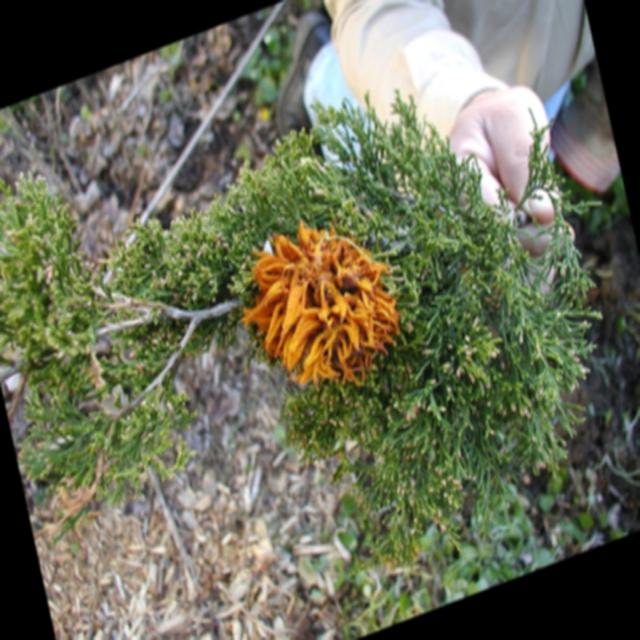Gymnosporangium_Rusts: (239, 218, 402, 392)
